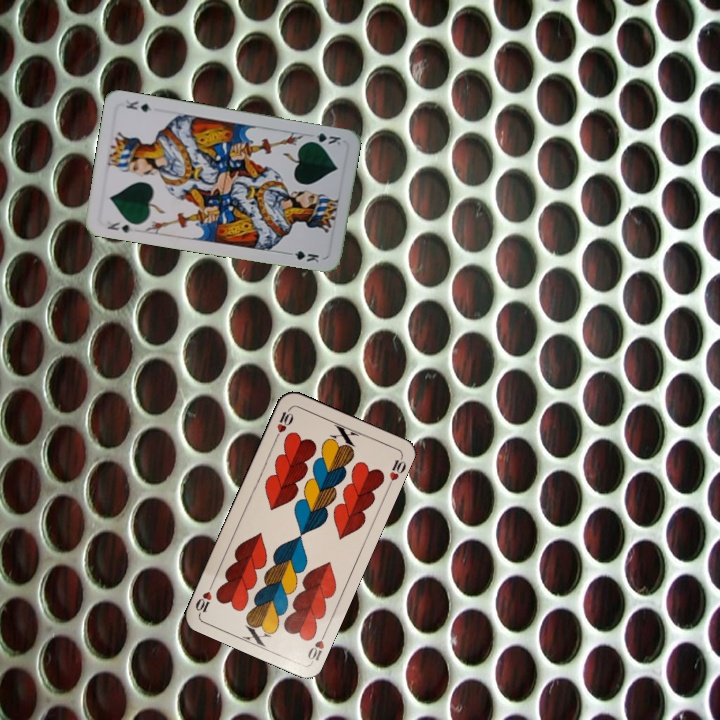GK: (304, 129, 343, 148), (103, 218, 135, 235)
H10: (303, 626, 330, 665), (271, 404, 296, 443)
